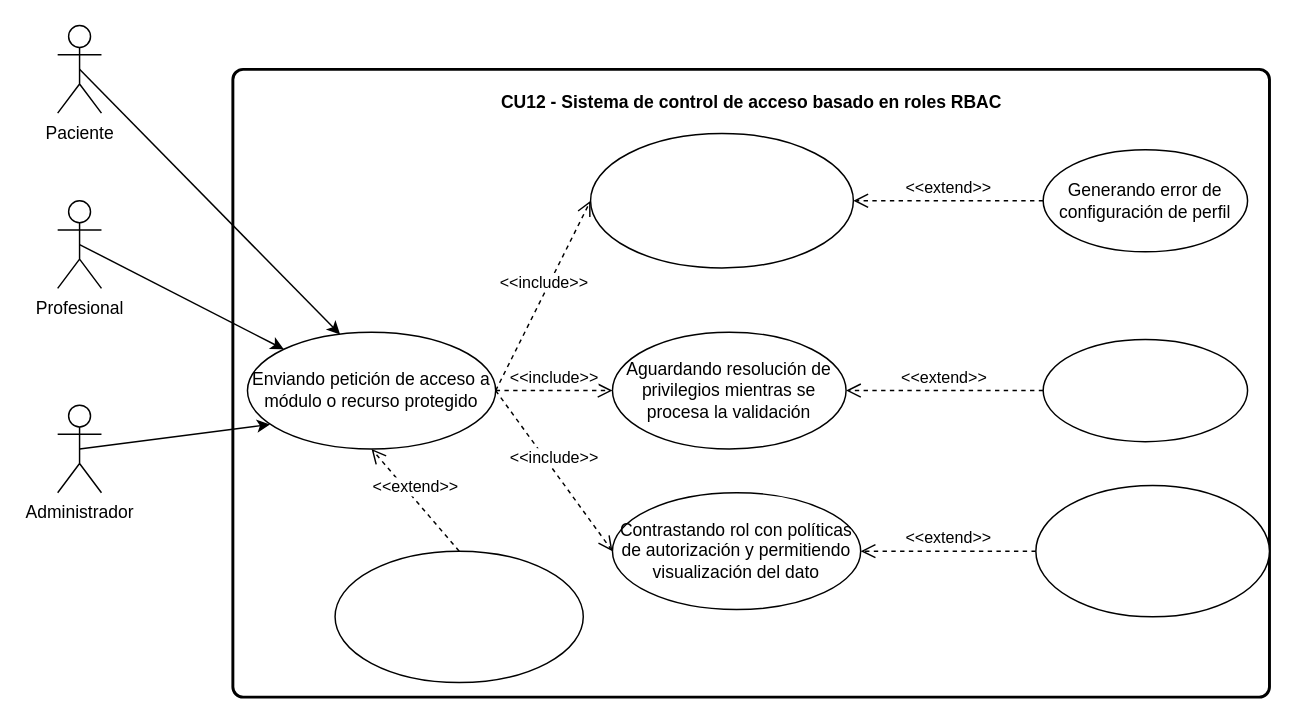
Some shapes in this 1295 by 724 pixel diagram are drawn without their labels. Here are the shapes that lost their labels. From the top down, the box of each, then its label:
(589, 132, 853, 268): Interceptando solicitud y verificando vigencia del token, de la sesión y rol
(1042, 338, 1248, 442): Notificando servicio de validación no disponible
(1034, 484, 1269, 617): Bloqueando acceso definitivamente y registrando en bitácora de auditoría
(334, 550, 583, 683): Denegando solicitud y redirigiendo a login por token expirado o sesión revocada
